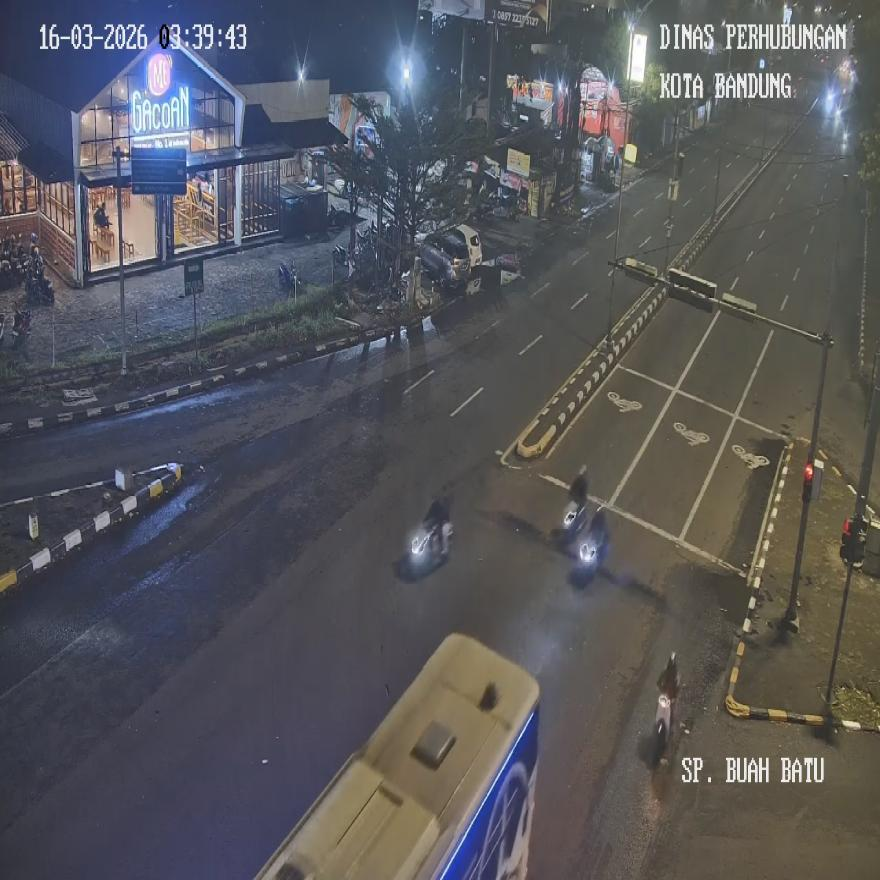Truk: (652, 654, 681, 766), (578, 507, 609, 578), (410, 521, 452, 570), (652, 692, 673, 766), (27, 251, 54, 303), (561, 500, 587, 545), (12, 304, 31, 348), (279, 260, 297, 294), (0, 256, 15, 289), (328, 206, 349, 227), (333, 245, 347, 267), (0, 313, 5, 344)
